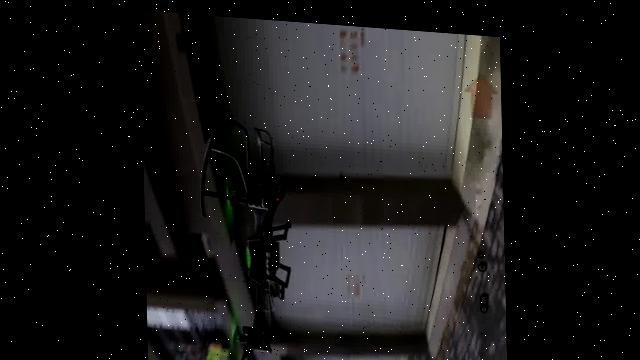drone: (192, 104, 300, 360)
